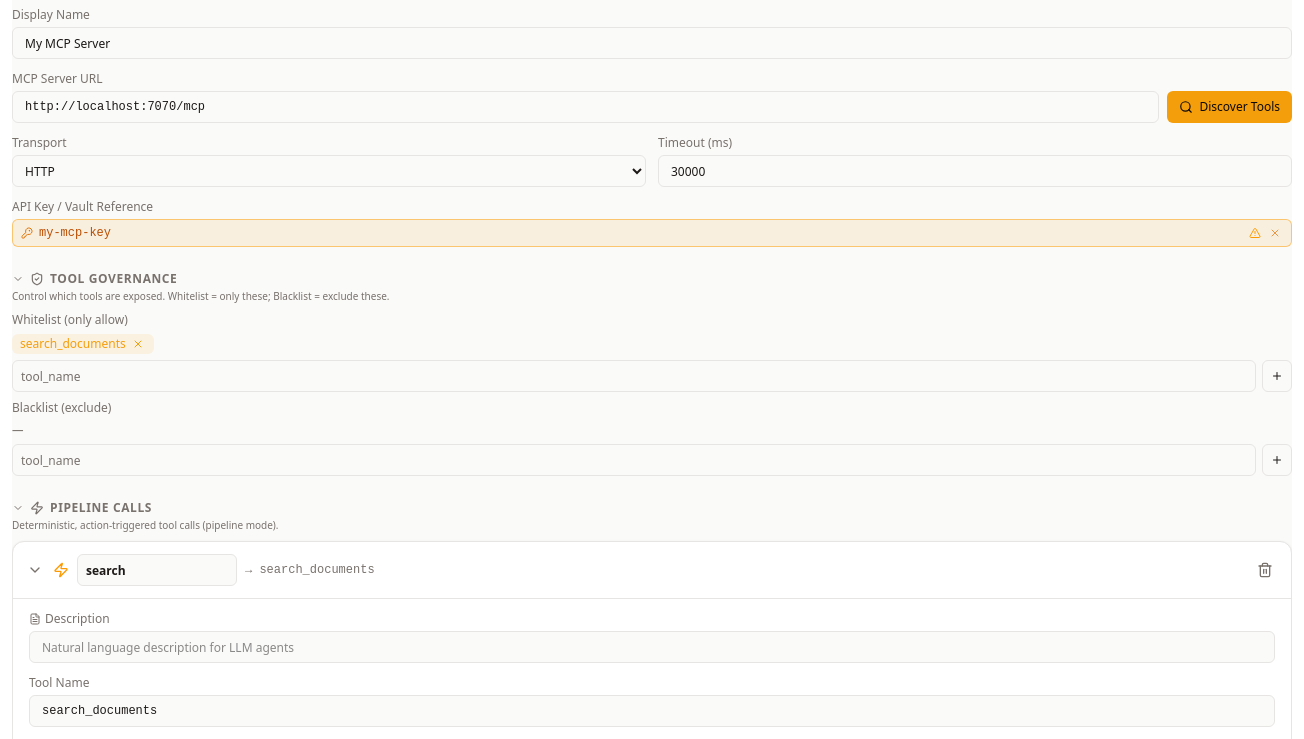
Scenario: McpCallsEditor › populates the tool-name combobox and shows the parameter schema after discovery
This screenshot has width=1304, height=739.
Click the button with test id "discover-tools-btn" at (1230, 107), box [1168,91,1292,123]
(page scrolled)
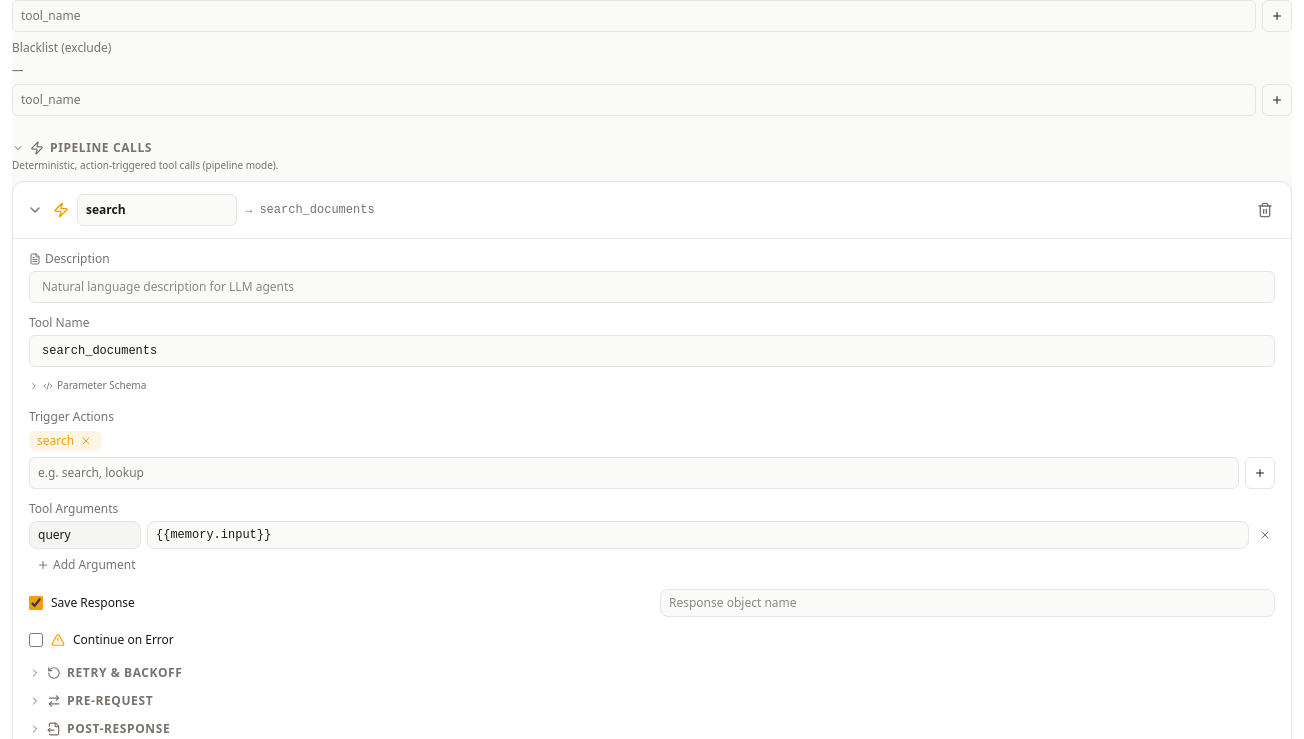
Expected: the element with test id "tool-schema" is shown
Click the button with test id "tool-schema-toggle" at (88, 386), box [29,378,146,393]
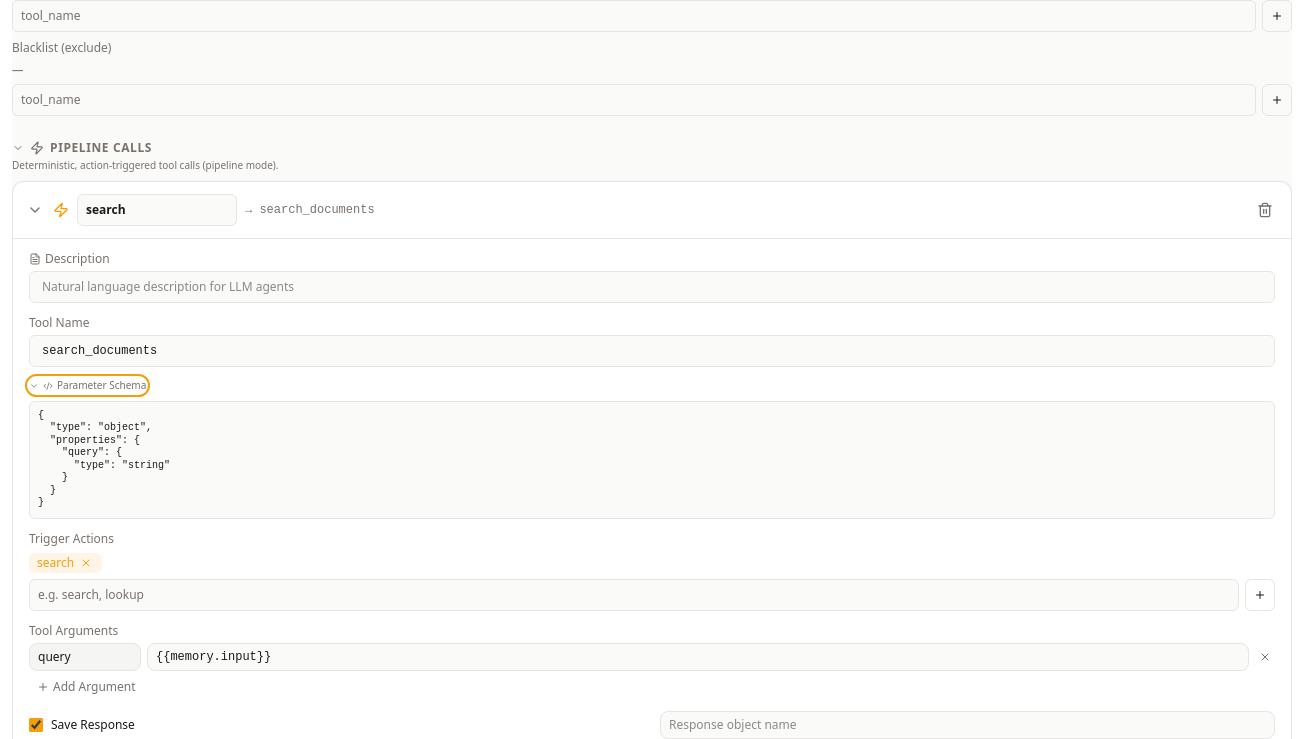
Expected: the text with test id "tool-schema-content" shows "query", [38,410,170,508]
